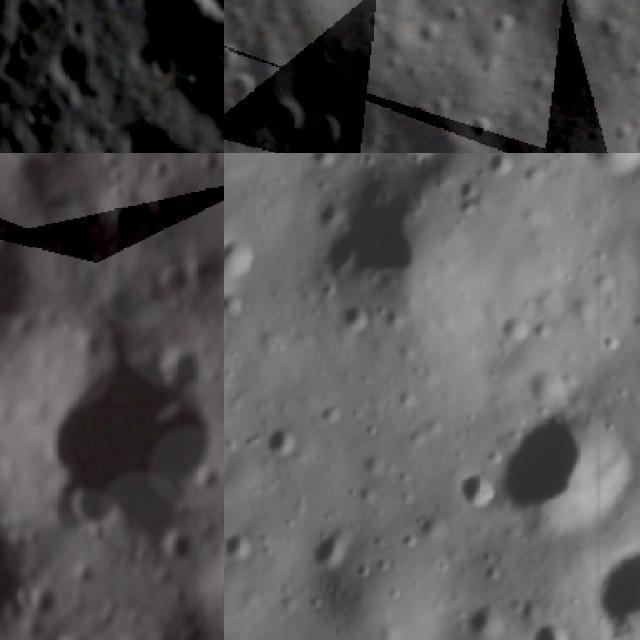crater: (44, 346, 222, 541), (493, 401, 640, 548), (306, 167, 458, 287), (0, 505, 43, 640), (380, 96, 471, 153), (590, 538, 640, 640), (0, 212, 30, 363), (35, 29, 96, 101), (301, 516, 366, 578), (115, 108, 198, 153), (452, 466, 501, 518), (224, 230, 265, 287), (199, 555, 224, 640), (152, 258, 191, 312), (565, 153, 640, 180), (333, 296, 377, 341), (7, 153, 52, 194), (259, 424, 308, 461), (266, 97, 306, 139), (185, 251, 224, 292), (308, 115, 348, 153), (524, 614, 575, 640), (224, 528, 256, 568), (479, 153, 521, 180), (500, 312, 535, 344), (147, 157, 174, 192), (108, 201, 134, 234), (305, 153, 342, 171), (392, 387, 420, 410), (624, 113, 640, 153), (320, 402, 343, 428), (458, 176, 483, 198), (224, 292, 244, 318), (458, 197, 480, 220), (534, 321, 555, 344)
